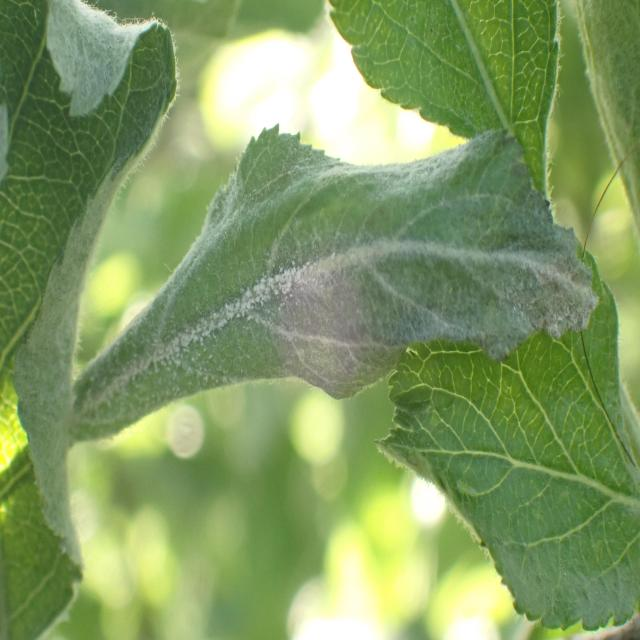Powdery_mildew: (76, 136, 610, 423), (3, 0, 183, 640)
